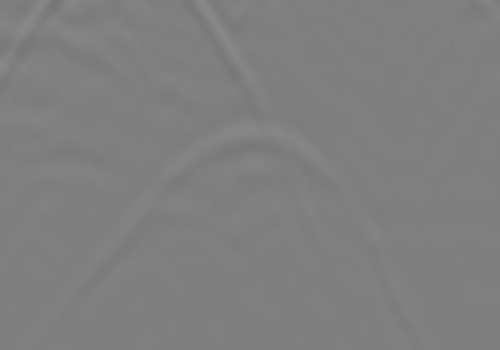hyperbola: (67, 118, 409, 327)
